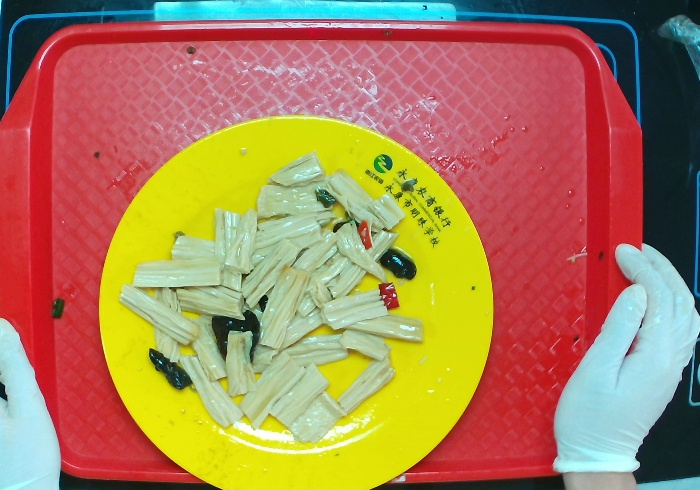YKMZ-Huang_Se_Mian_Pan: (95, 111, 494, 490)
